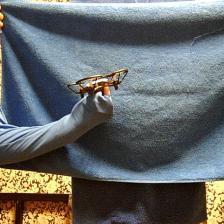drone: (64, 68, 133, 96)
